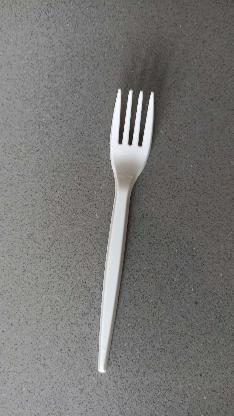Others: (88, 87, 160, 373)
